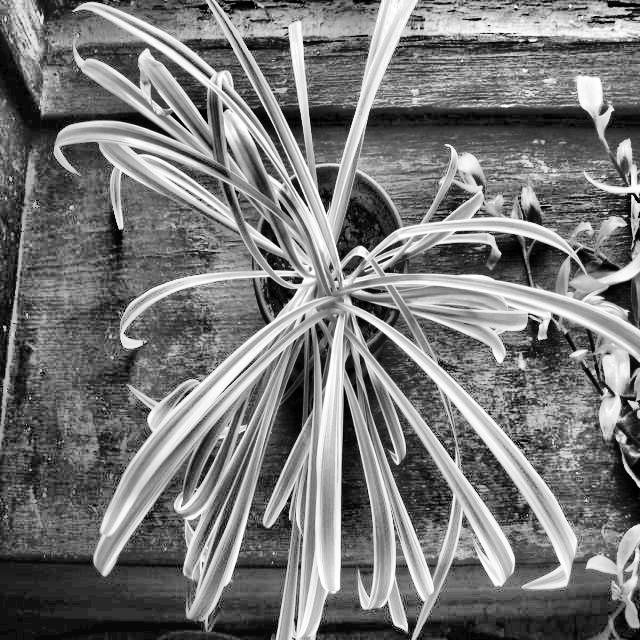plants: (53, 18, 597, 606), (458, 190, 596, 382), (54, 20, 218, 168)
